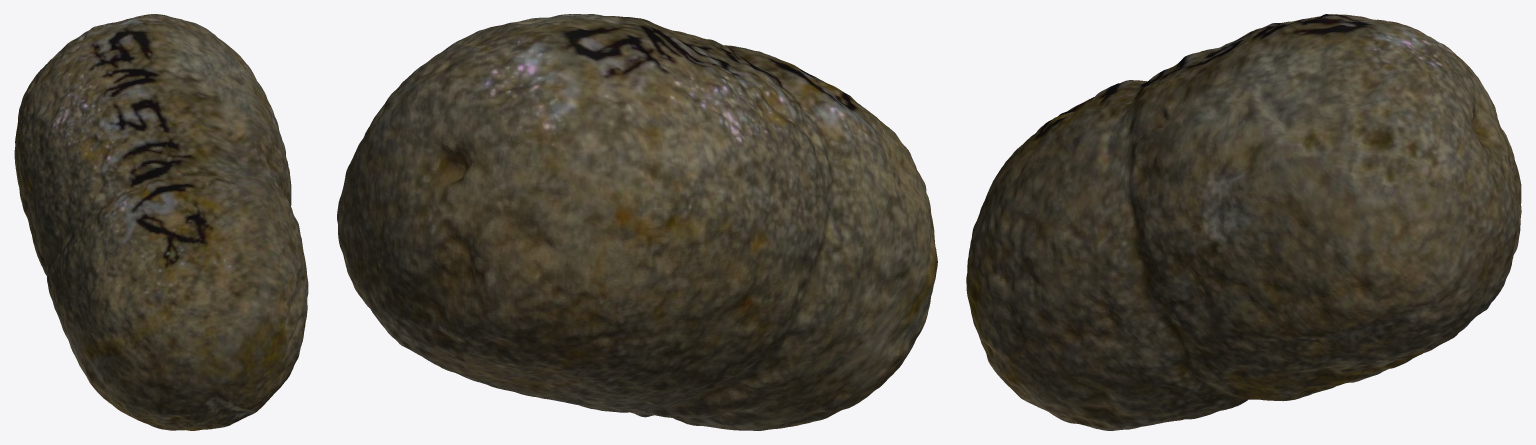
Rendered from SAS-161-2.fbx.
The picture shows the model from 3 angles, left to right: view 1: azimuth 30°, elevation 25°; view 2: azimuth 150°, elevation 25°; view 3: azimuth 270°, elevation 25°; orthographic projection. The views are drawn at different scales.
Visible parts, largest first — view 1: SAS-161-2_LOD00; view 2: SAS-161-2_LOD00; view 3: SAS-161-2_LOD00.
Part boxes in pixels (<box>): SAS-161-2_LOD00: <box>14,14,308,430</box>; SAS-161-2_LOD00: <box>337,14,937,430</box>; SAS-161-2_LOD00: <box>966,14,1521,430</box>.
Size of what is drawn, in the model's own units: 3059 by 3346 by 4109.
Materials: 1 (1 with a texture image).
